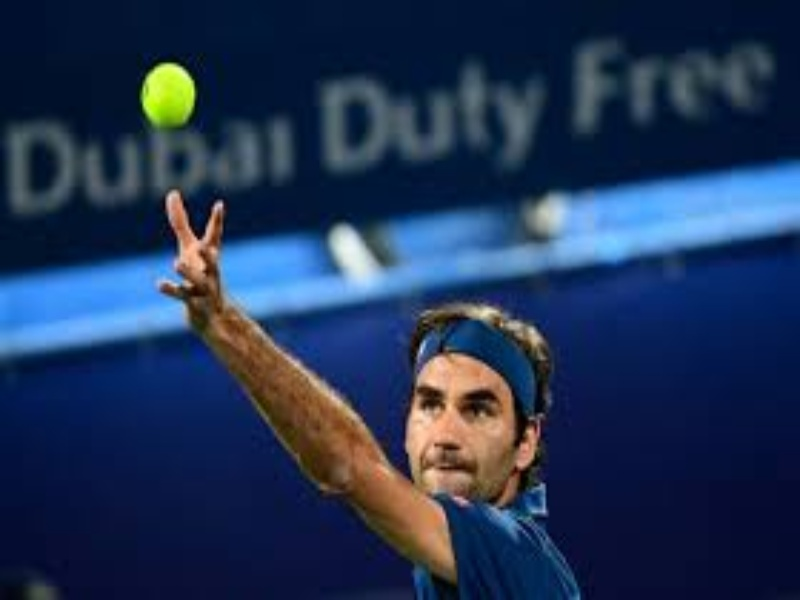tennis ball: (119, 46, 215, 151)
